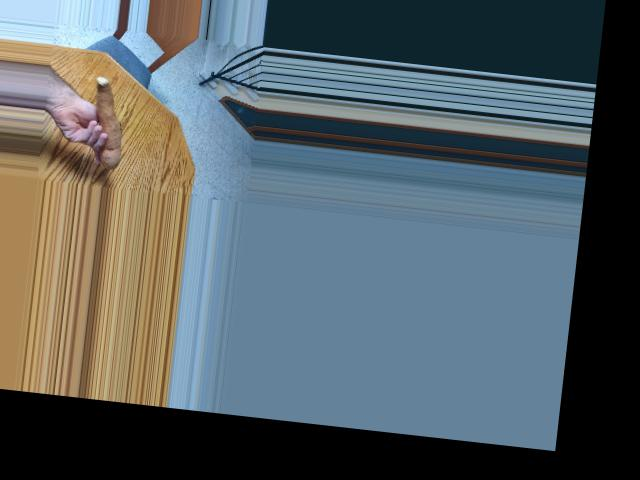sweet_potato: (83, 80, 132, 166)
